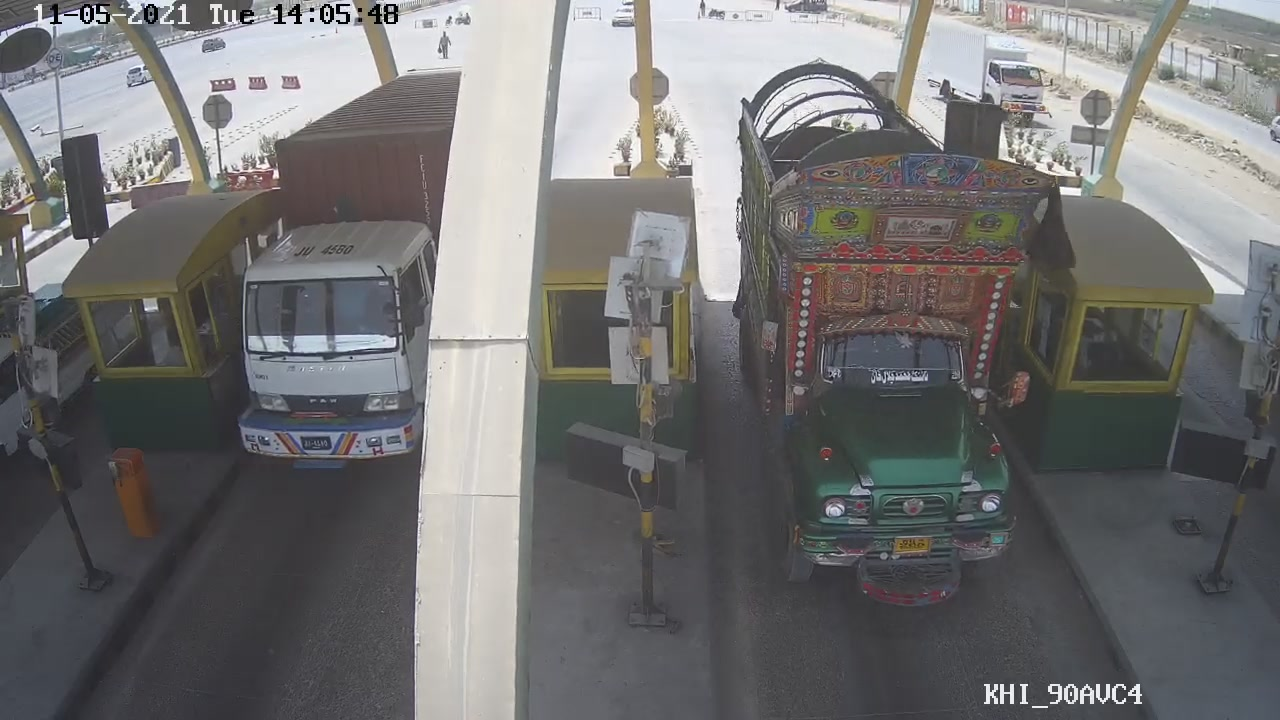F5: (727, 81, 1065, 607)
